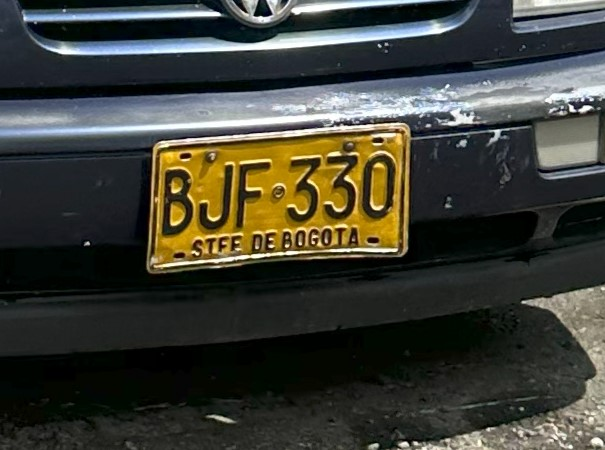number plate: (147, 124, 409, 272)
